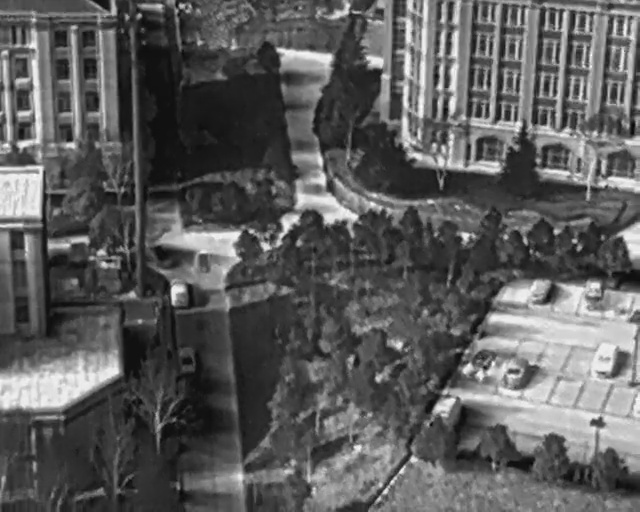Car: (463, 343, 498, 383), (500, 353, 531, 393), (590, 339, 621, 378), (527, 274, 554, 306), (175, 345, 197, 375), (584, 277, 603, 301), (194, 250, 210, 276)
OtherVehicle: (428, 390, 467, 434), (169, 278, 190, 308)
